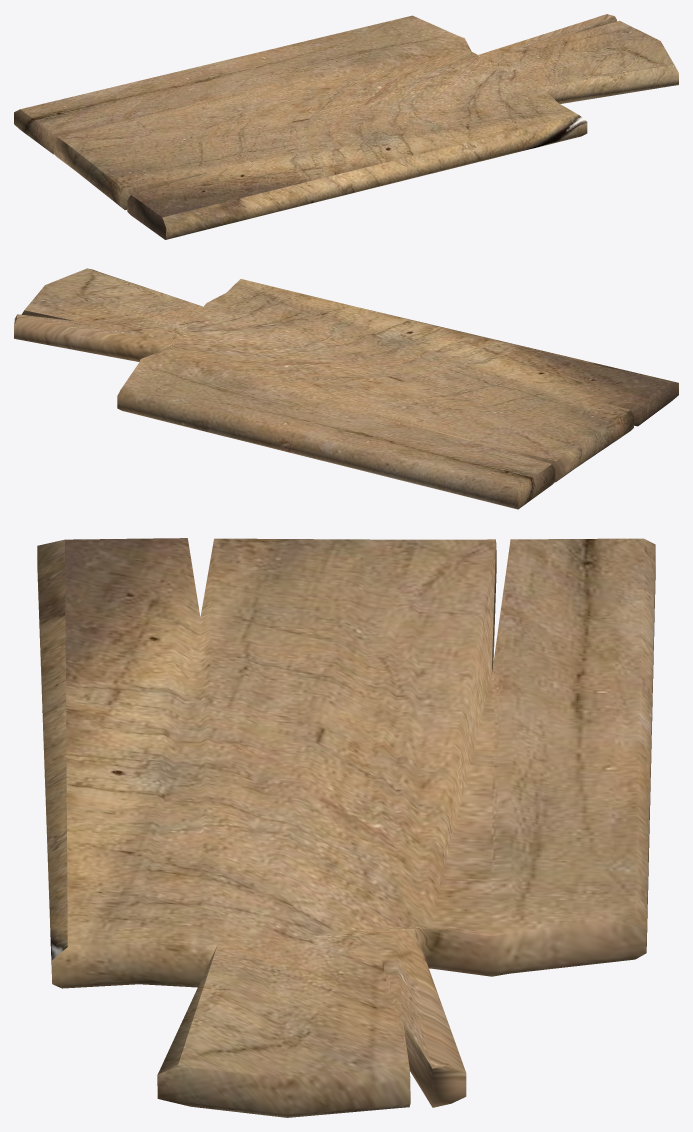
File: Cutting_Board.fbx
3 views of the same model, one above another, from view 1: azimuth 30°, elevation 25°; view 2: azimuth 150°, elevation 25°; view 3: azimuth 270°, elevation 25° (orthographic). The views are drawn at different scales.
Visible parts, largest first — view 1: pCube1; view 2: pCube1; view 3: pCube1.
Part boxes in pixels (x1,y1,x2,y2): pCube1: (14,14,678,239); pCube1: (14,268,678,509); pCube1: (37,538,655,1117).
Size of the model in its own units: 1855 by 70.67 by 887.
